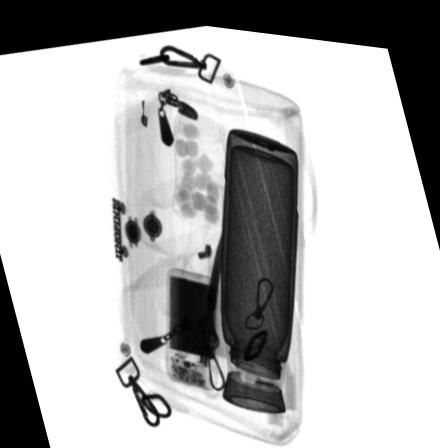Powerbank: (164, 261, 221, 387)
Scissors: (181, 217, 233, 391)
